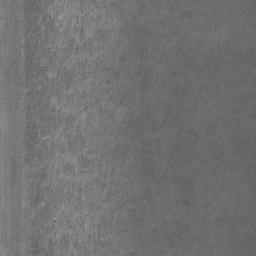Silk spot: (0, 0, 256, 256), (170, 0, 219, 31)
